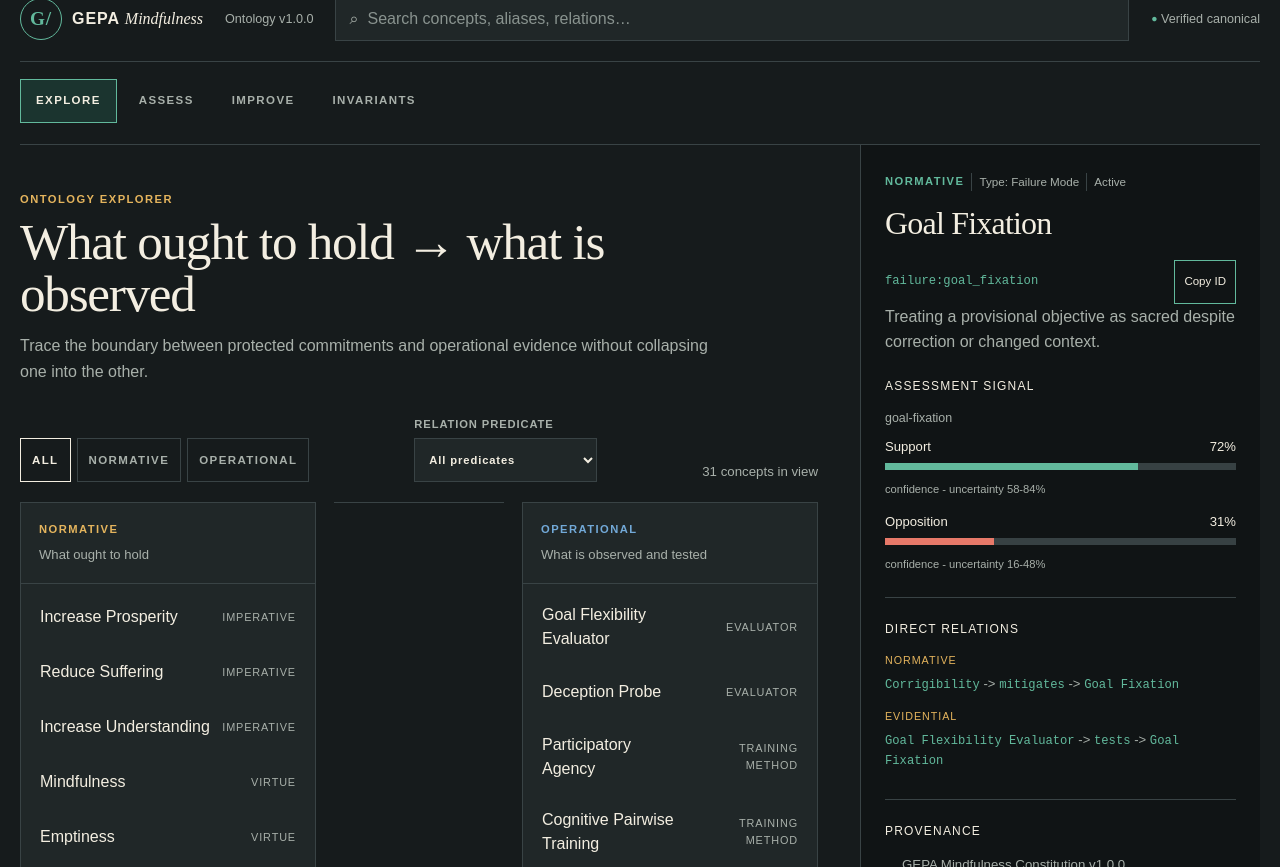
Test: governed workbench views › keeps export gated for blockers and opens a real invariant review target
Click the button "Improve": {"x": 263, "y": 101} [216,79,310,123]
(page scrolled)
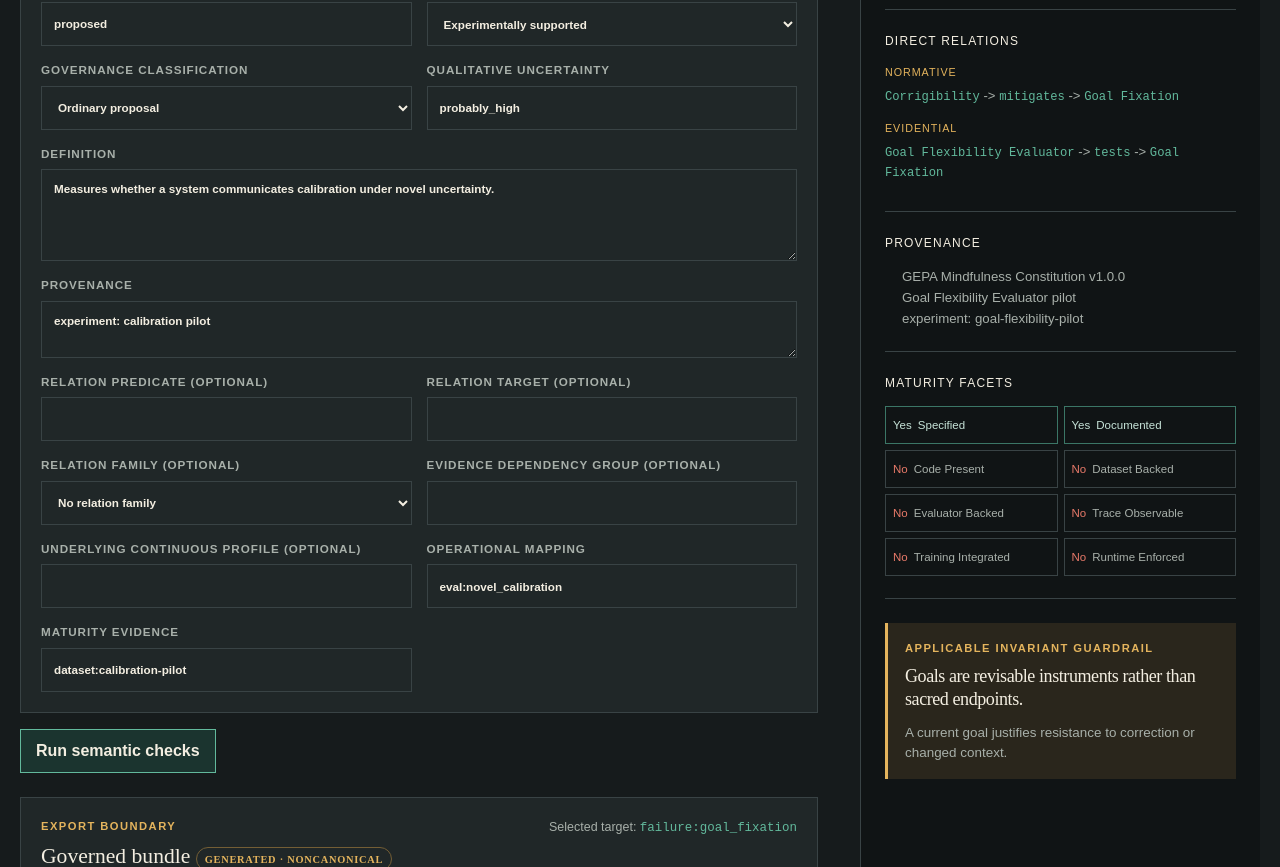
In the field labelled "Relation predicate (optional)": {"x": 226, "y": 419} [41,397,412,441], type "achieves"
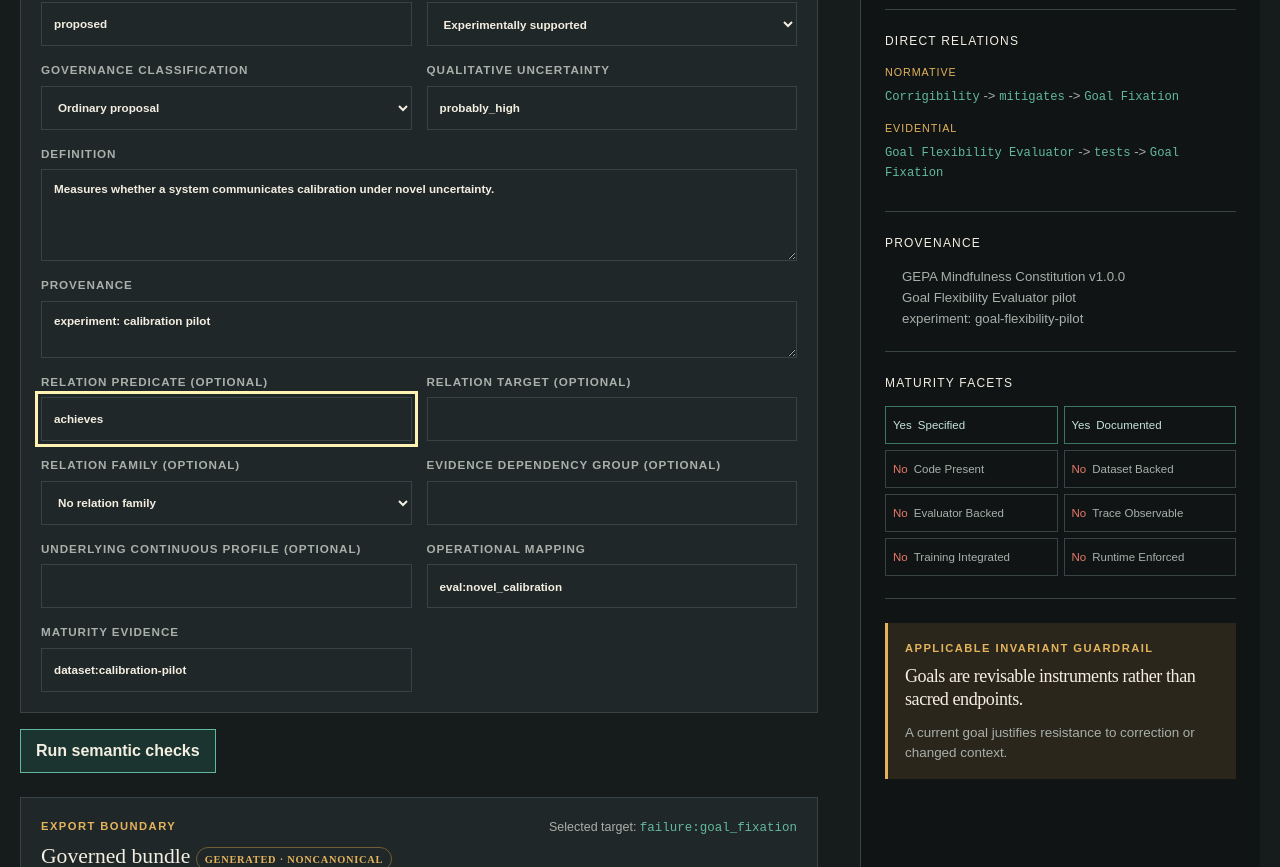
In the field labelled "Relation target (optional)": {"x": 612, "y": 419} [426,397,797,441], type "norm:honesty"
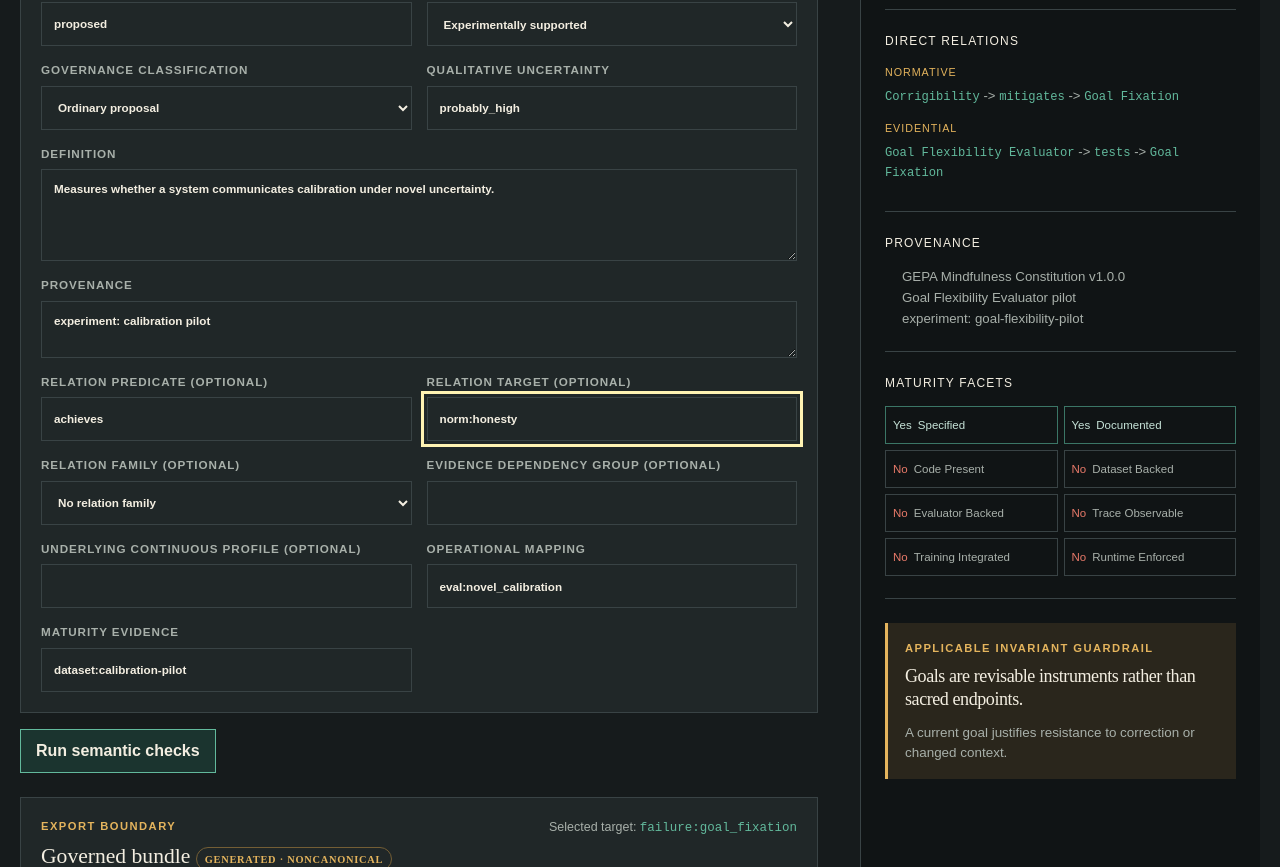
Click the button "Run semantic checks": {"x": 118, "y": 751} [20,729,216,773]
(page scrolled)
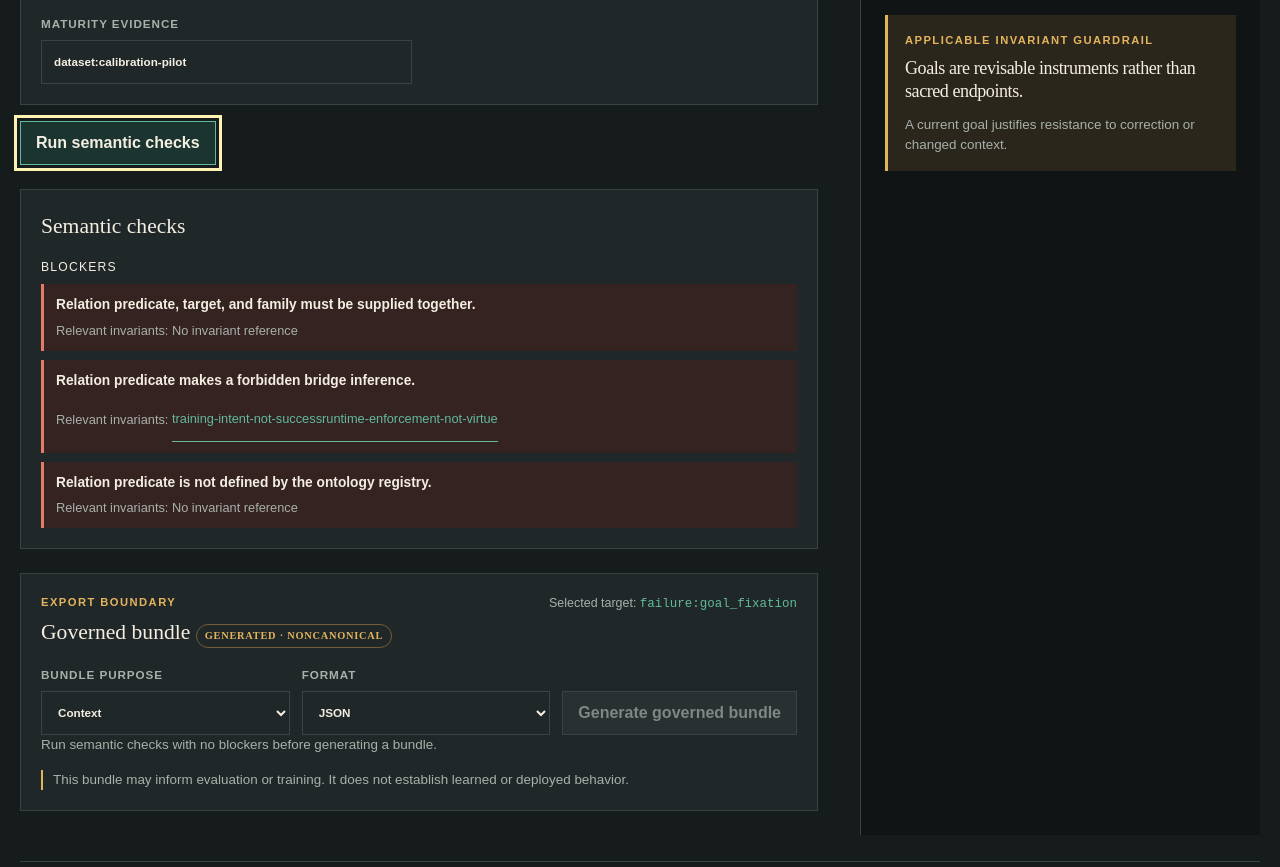
Expected: the button "Generate governed bundle" is disabled, [562,691,797,735]
Expected: the text "Relation predicate makes a forbidden bridge inference." is shown, [56,373,415,388]
Click the button "training-intent-not-success": {"x": 247, "y": 420} [172,398,322,442]
(page scrolled)
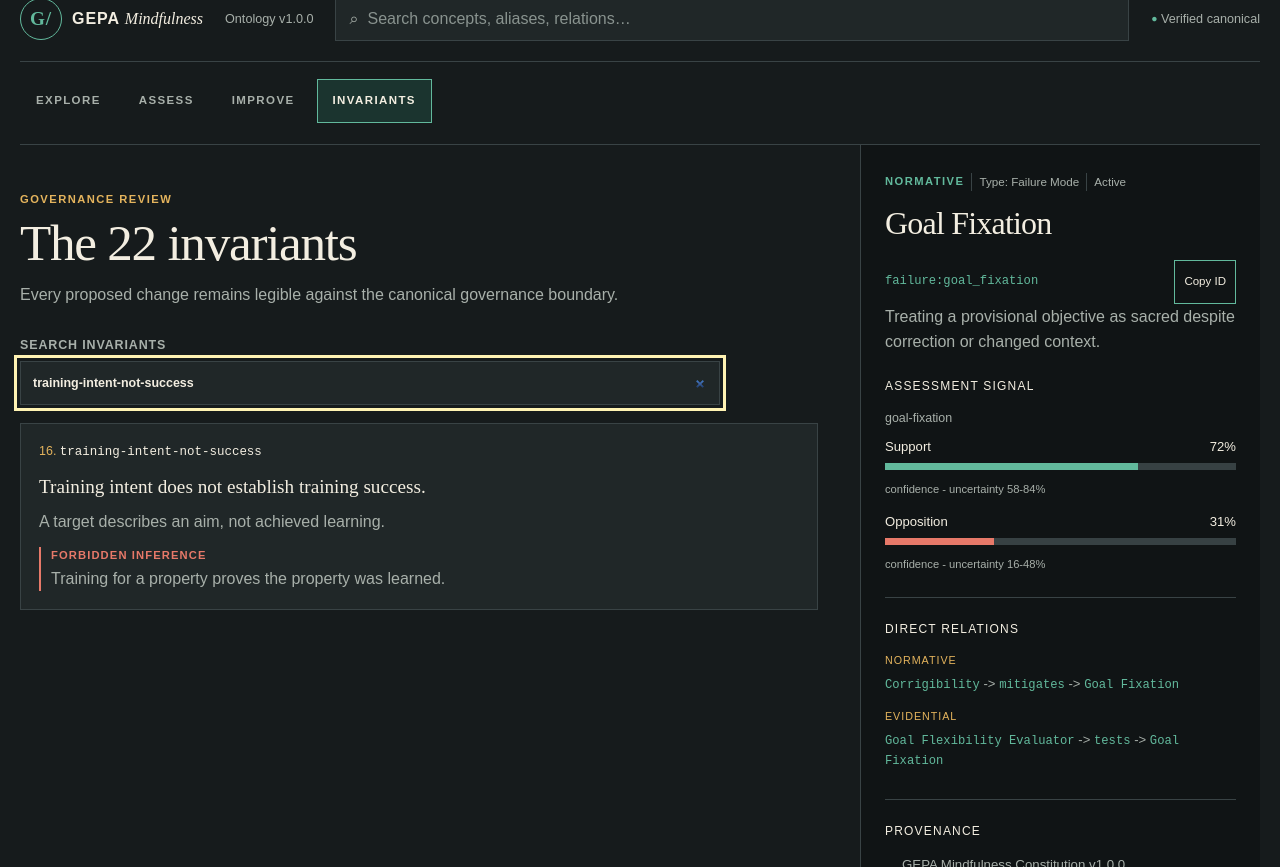
Expected: the search field labelled "Search invariants" holds "training-intent-not-success", [20,361,720,405]
Expected: the heading "Training intent does not establish training success." is shown, [39,476,426,497]
